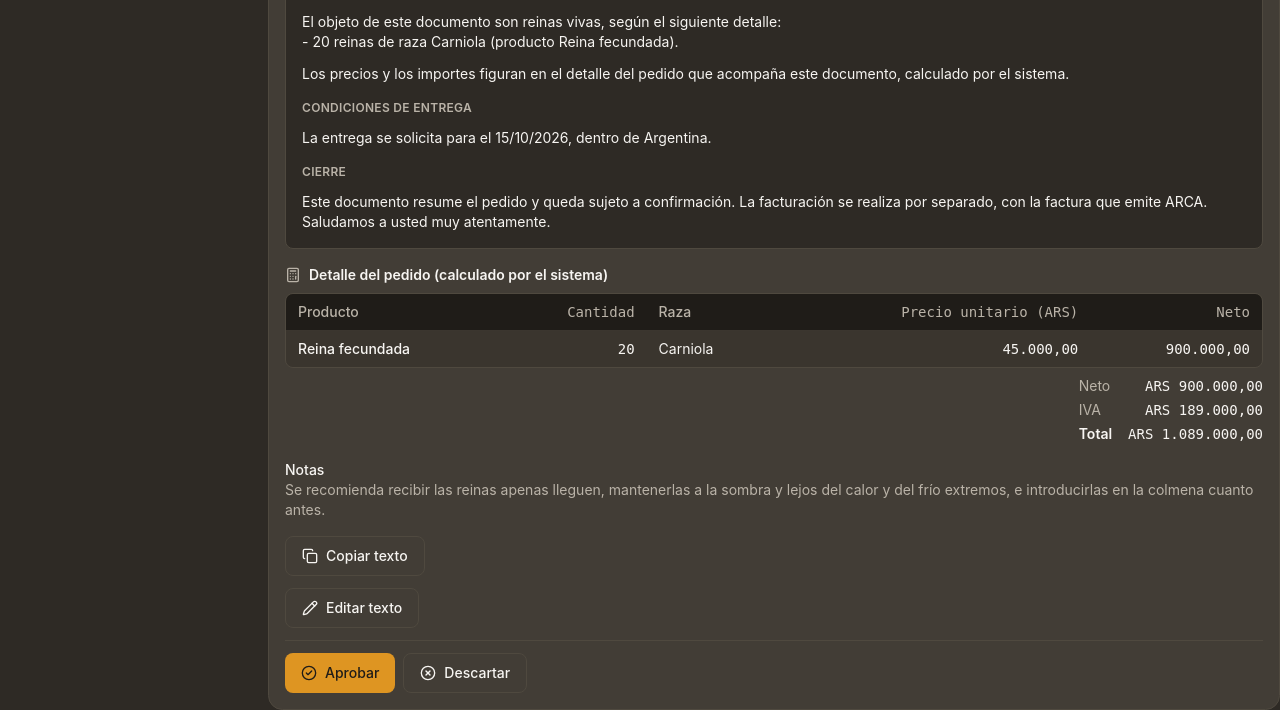
Test case: aprobación del borrador en el detalle del pedido › aprobar › version_desactualizada avisa que el borrador cambió y lo recarga
(page scrolled)
What coordinates should you click on to do the following:
click the button "Aprobar"
I would click on:
 (340, 673)
Its box is [285, 653, 395, 693].
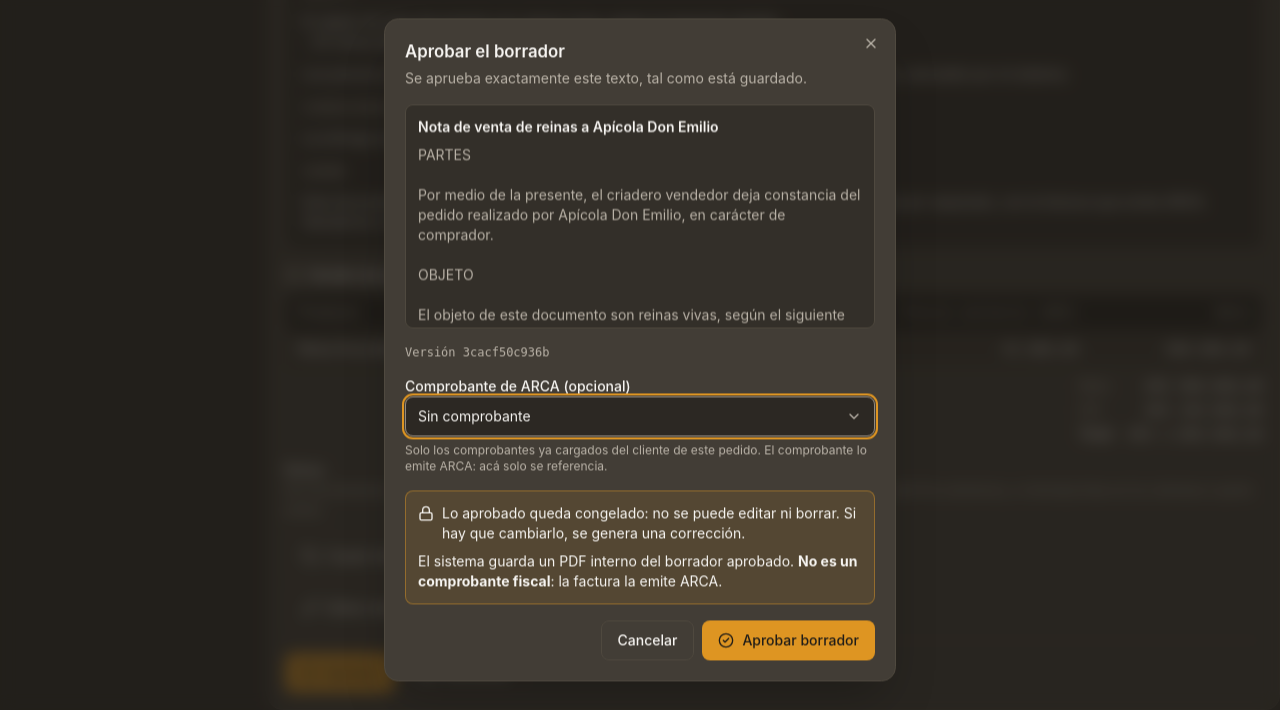
What coordinates should you click on to do the following:
click the button "Aprobar borrador"
I would click on:
 (789, 641)
Its box is [702, 621, 875, 661].
(page scrolled)
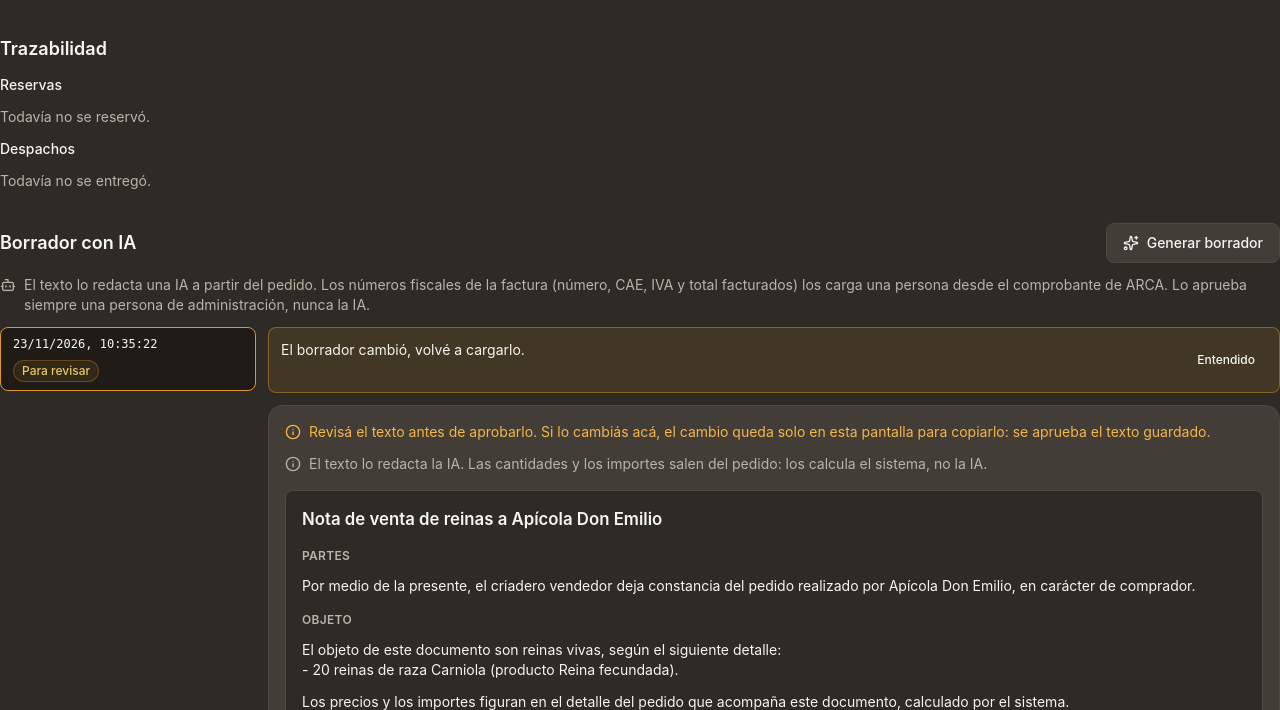
expect the text "El borrador cambió, volvé a cargarlo." is shown: met, box [281, 340, 525, 360]
expect the dialog is gone: met
